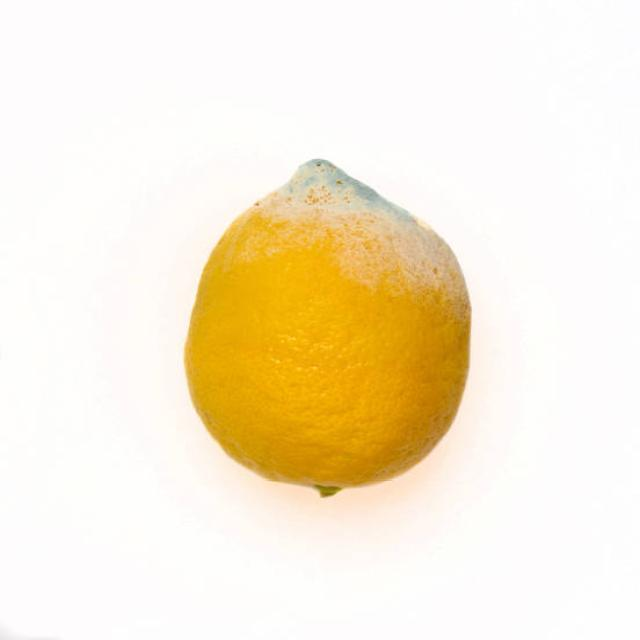Rotten: (184, 154, 475, 500)
